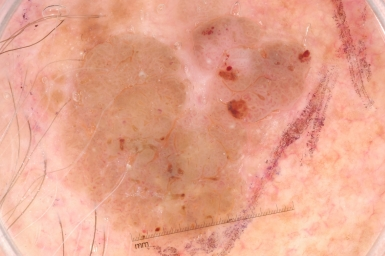seborrheic keratosis: (49, 12, 314, 201)
